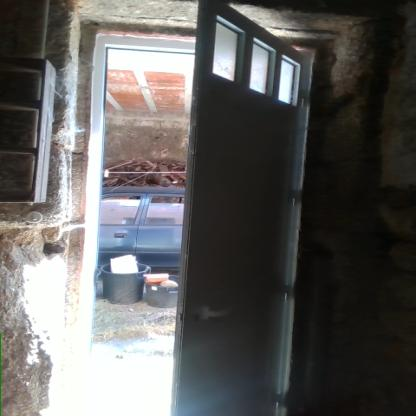semi: (69, 0, 326, 416)
